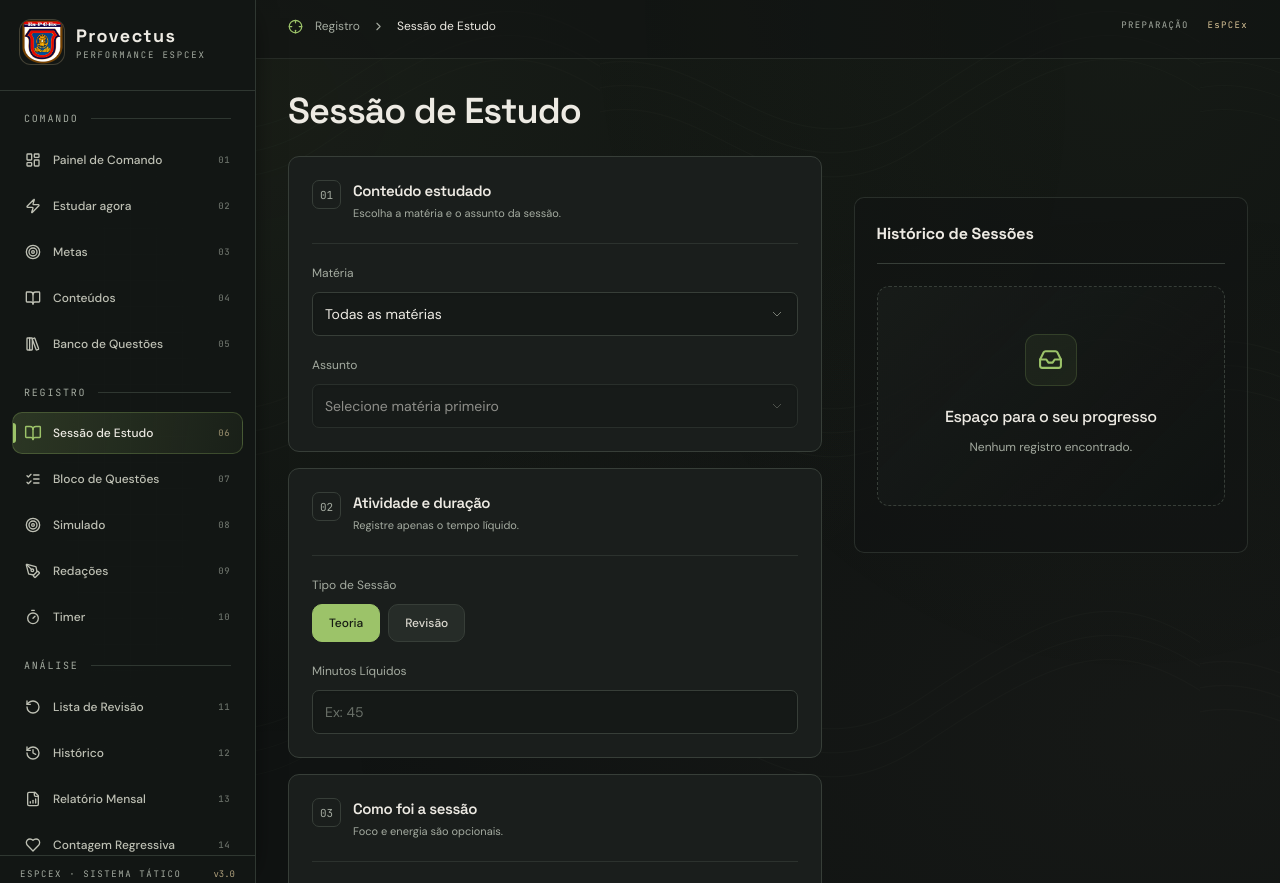
Test: Redesign preserves study workflows › submits the original session payload and clears the form after success
Select "Matemática" in the dropdown named "Matéria" at x=555, y=314, box [312,292,798,336]
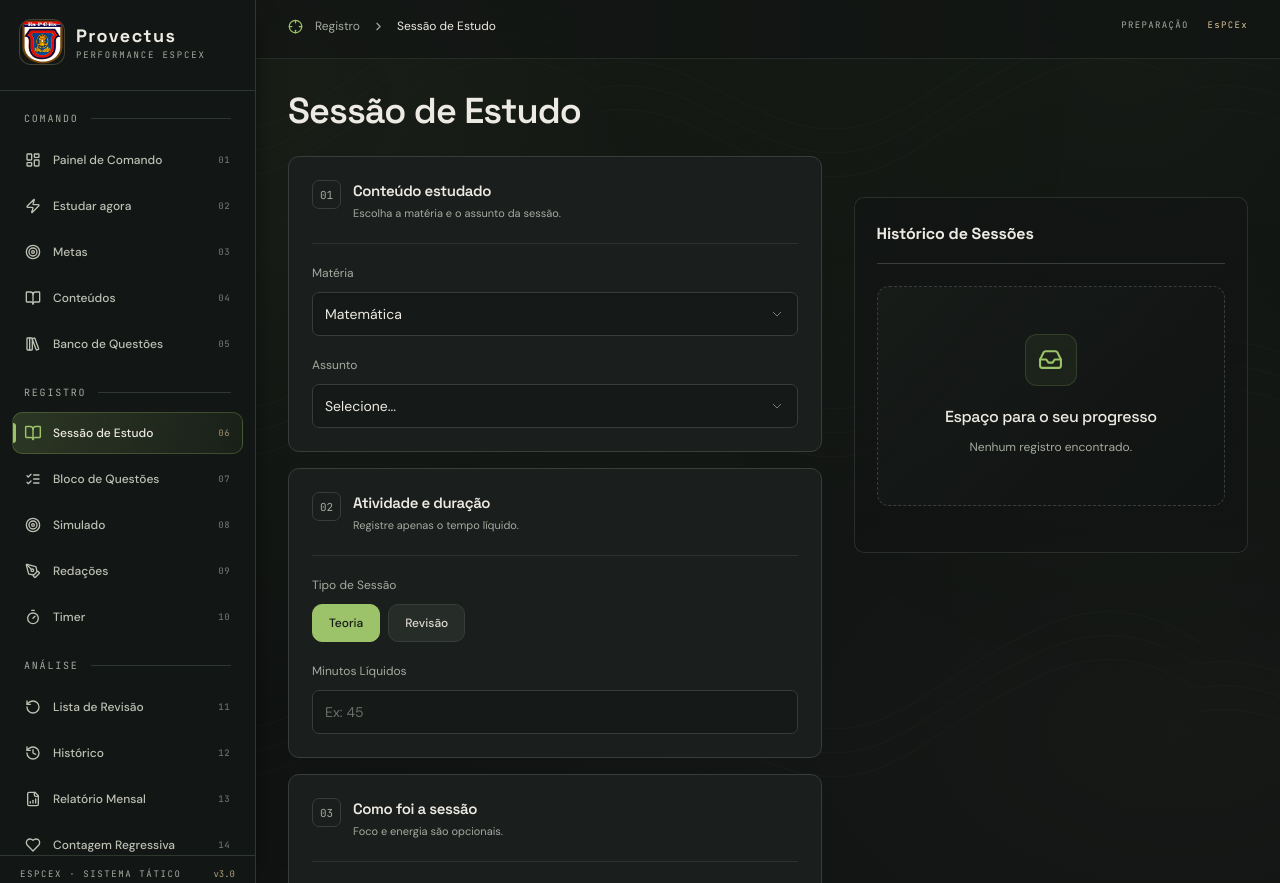
Select "Funções" in the dropdown named "Assunto" at x=555, y=406, box [312,384,798,428]
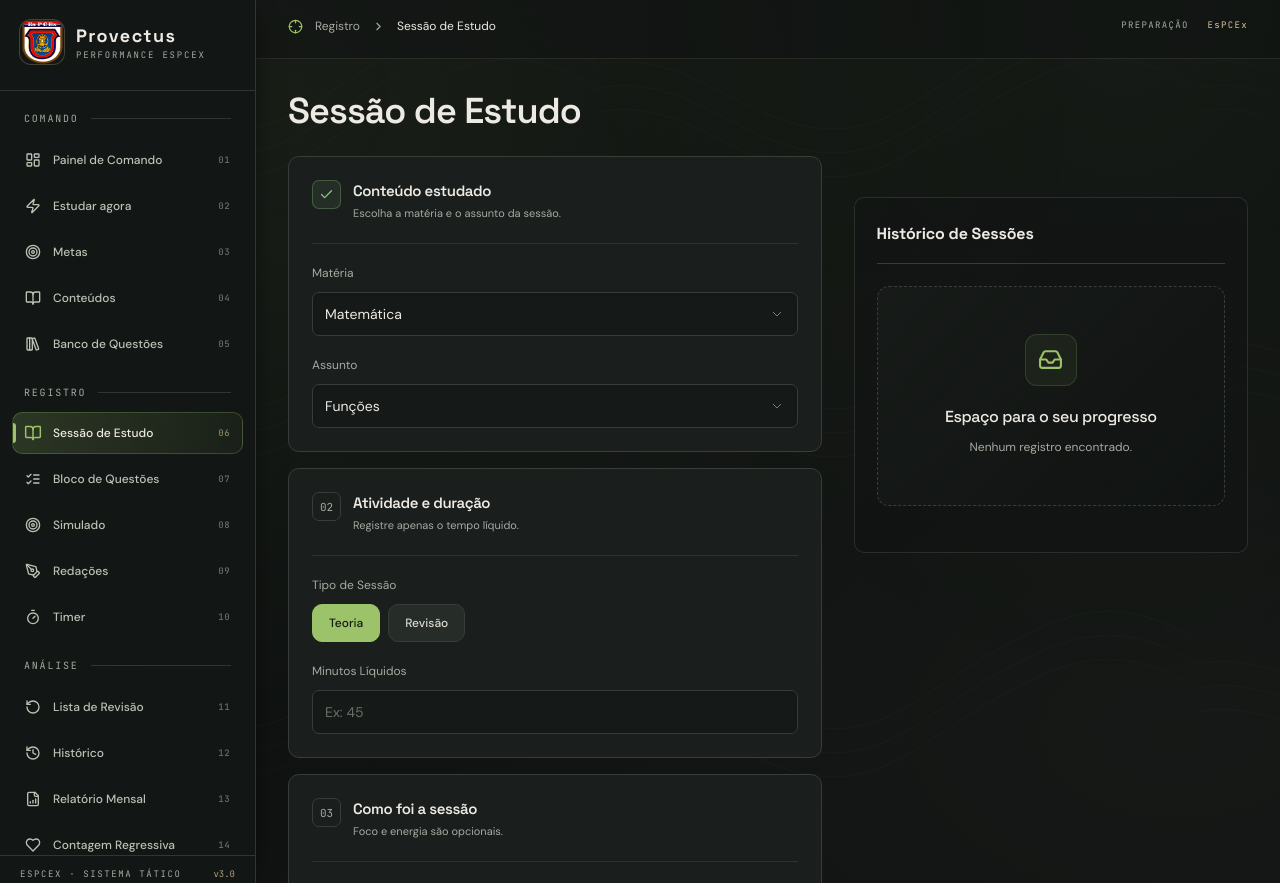
Type "45" into the number field named "Minutos Líquidos" at x=555, y=712, box [312,690,798,734]
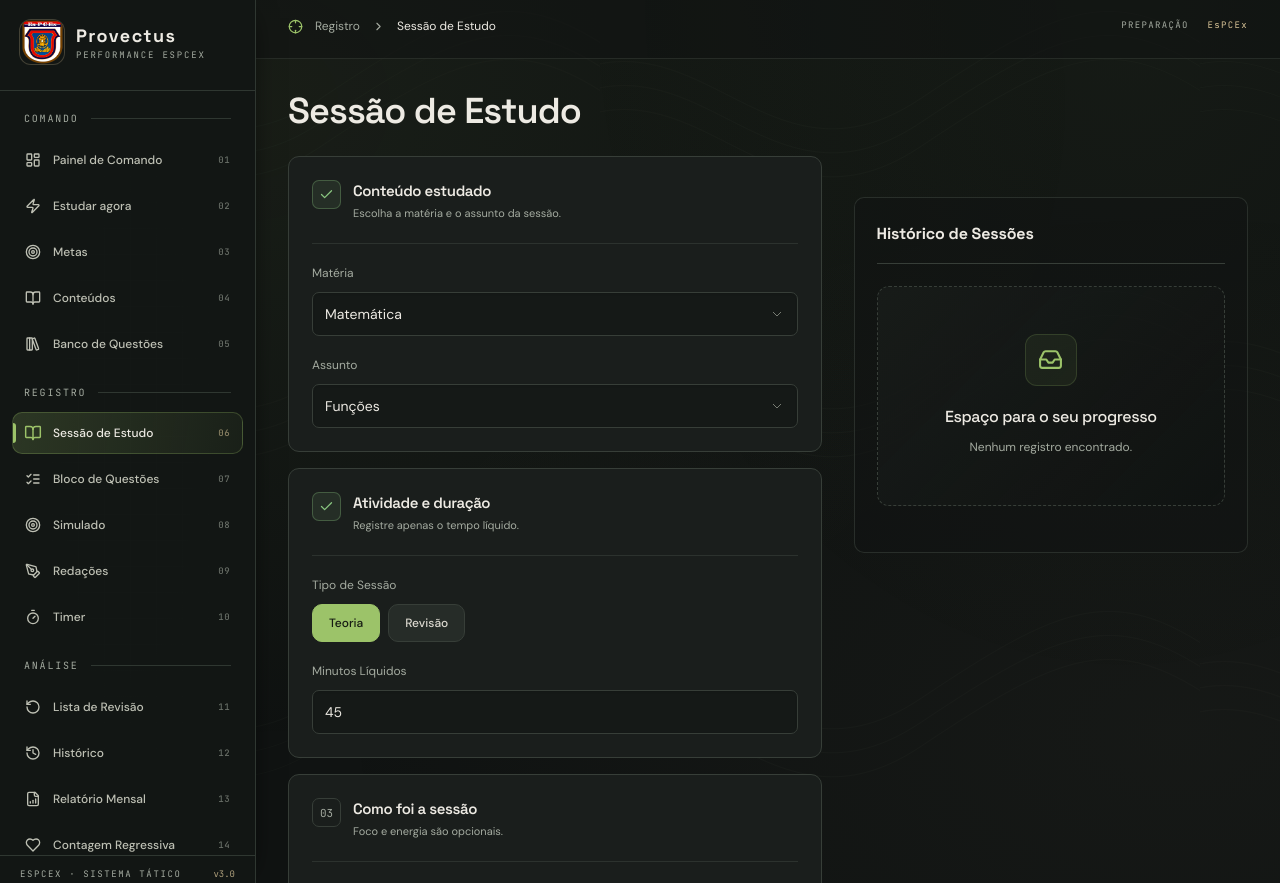
Click the button "Revisão" at x=427, y=623, box [388,604,465,642]
(page scrolled)
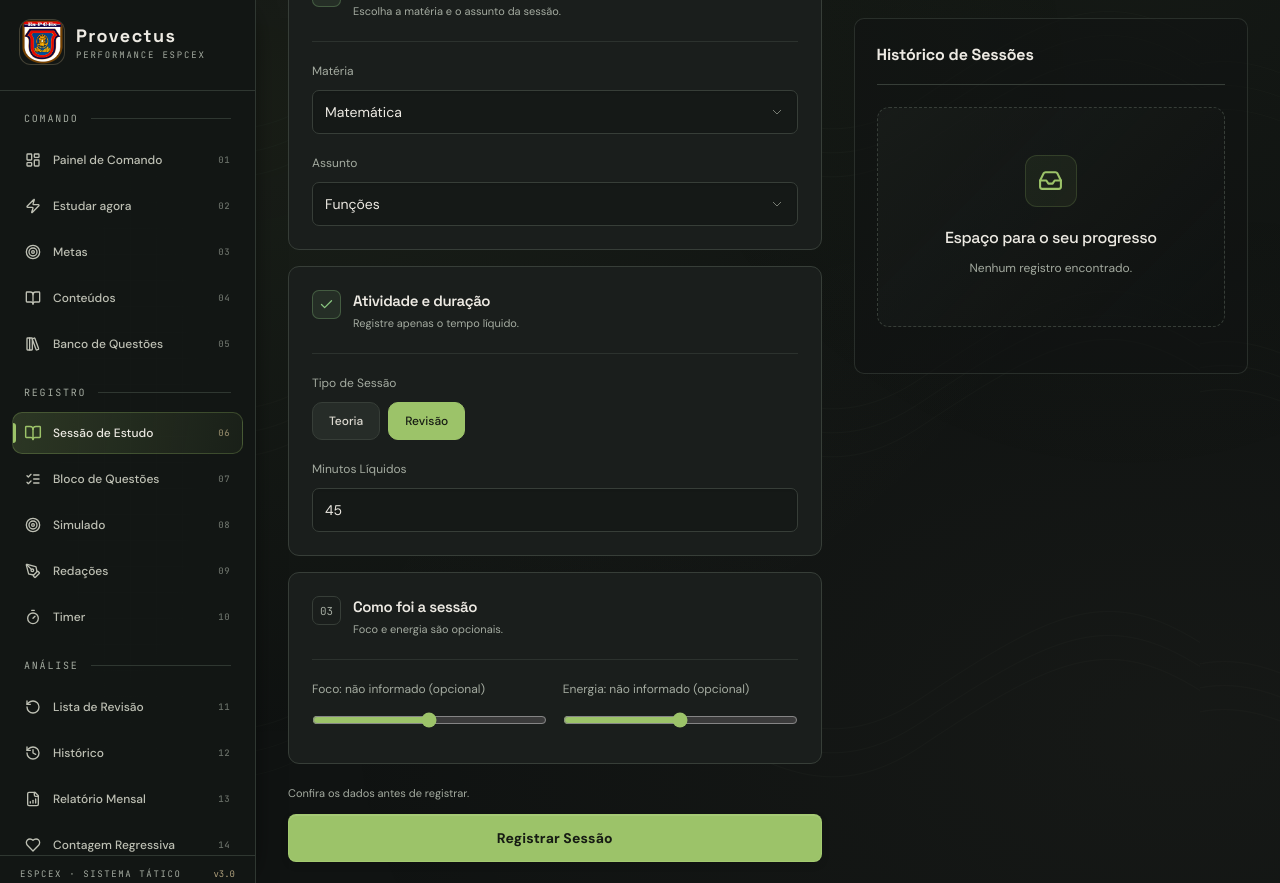
Click the button "Registrar Sessão" at x=555, y=838, box [288,814,822,862]
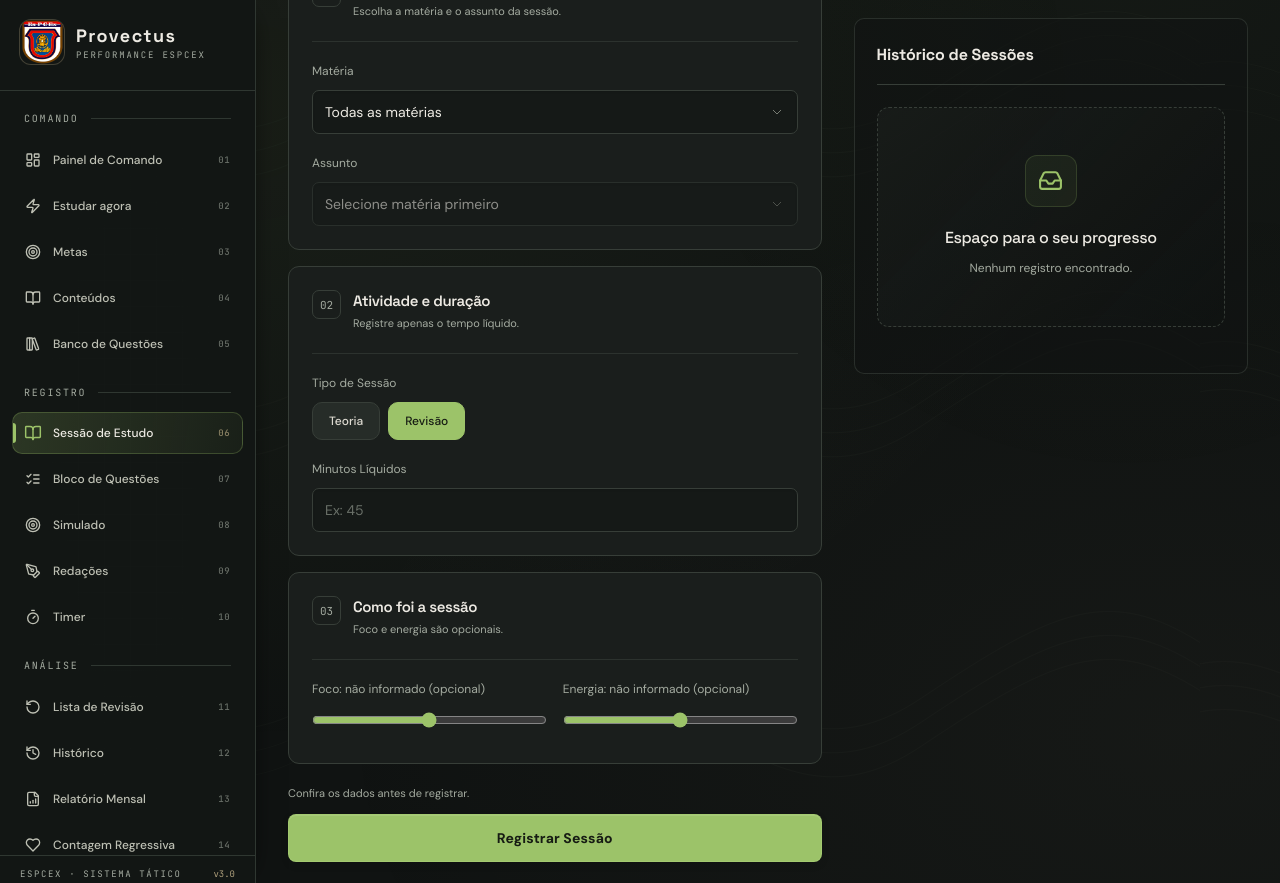
Now the number field named "Minutos Líquidos" is not empty, box [312,488,798,532]
